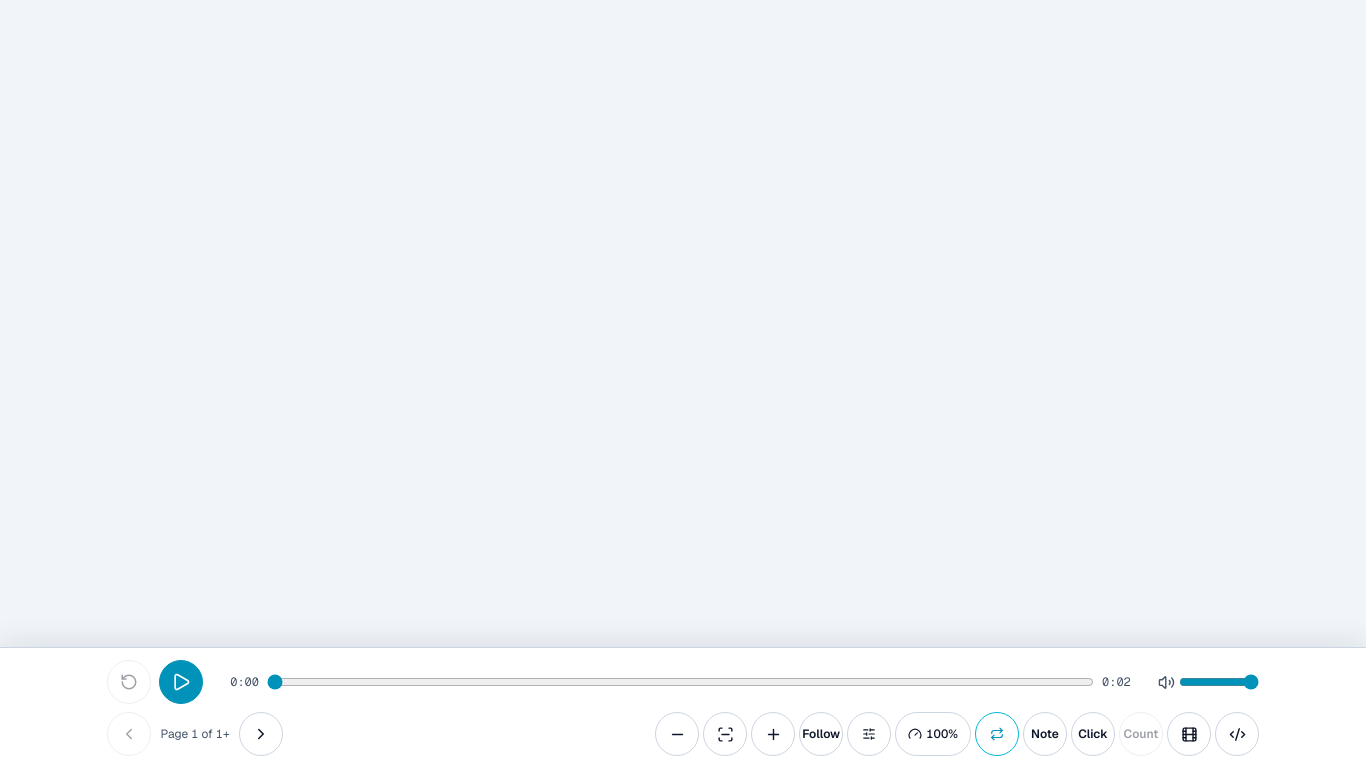
Scenario: EmbeddedScorePlayer progressive pages › falls back to measure highlighting with an inline message when segments fail
Click the button with aria-label "Note highlighting". click: (1045,734)
box: [1023,712,1067,756]
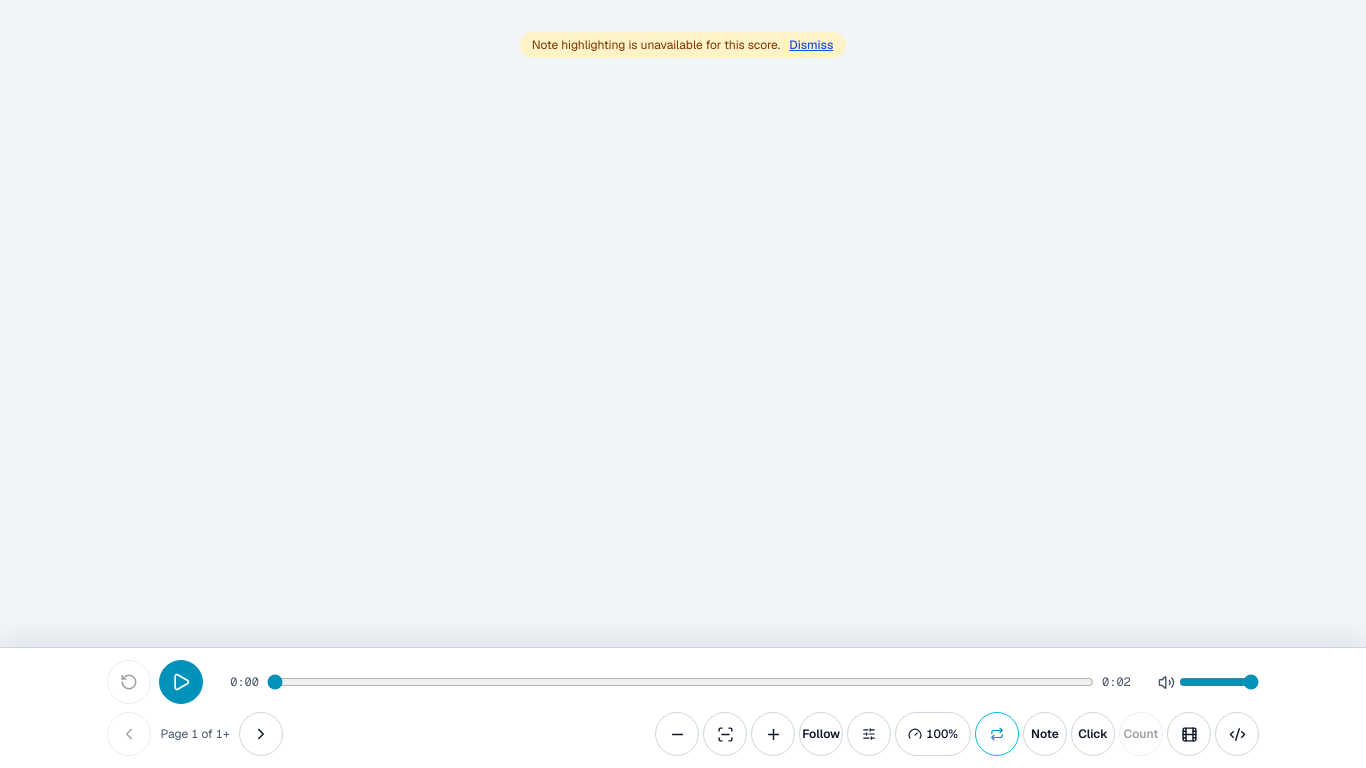
Check: the text "Note highlighting is unavailable for this score." is shown, box [532,37,780,53]
